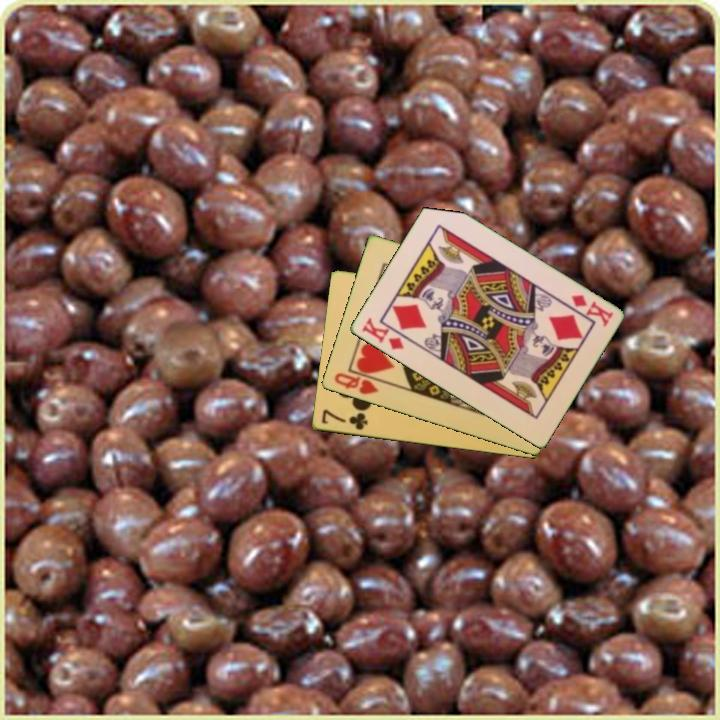7c: (318, 406, 370, 433)
Kd: (358, 314, 413, 353), (567, 291, 616, 329)
Qh: (330, 369, 382, 398)
